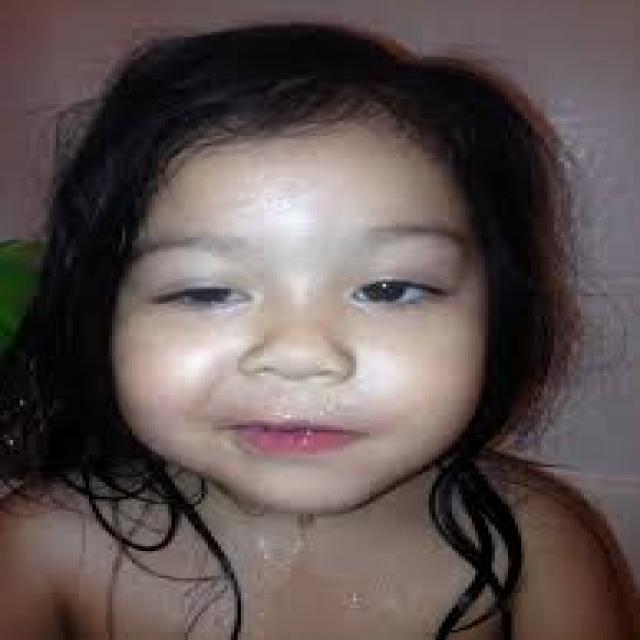stroke_face: (75, 64, 555, 542)
